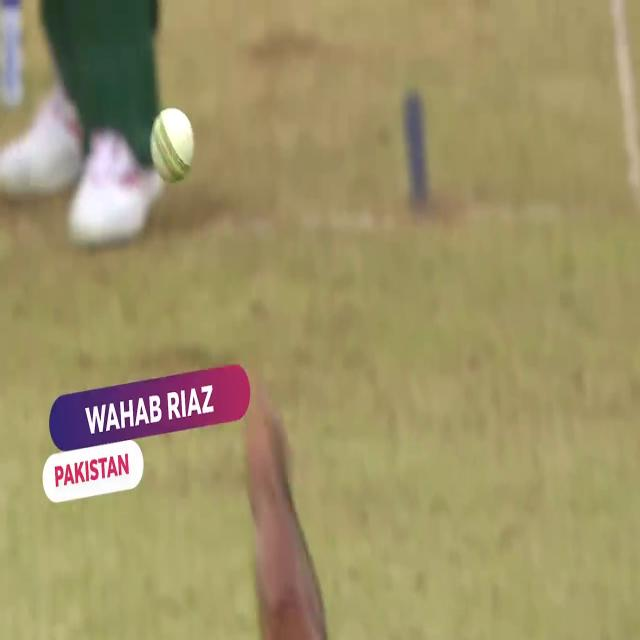ball: (143, 105, 199, 190)
